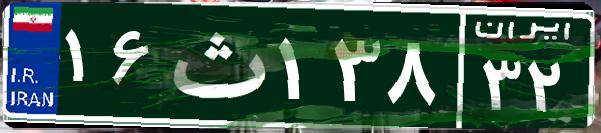1: (273, 28, 330, 110), (57, 26, 110, 107)
2: (525, 38, 570, 115)
3: (330, 28, 385, 110), (475, 38, 525, 113)
6: (110, 28, 158, 105)
8: (385, 28, 445, 110)
ث: (158, 15, 273, 115)
